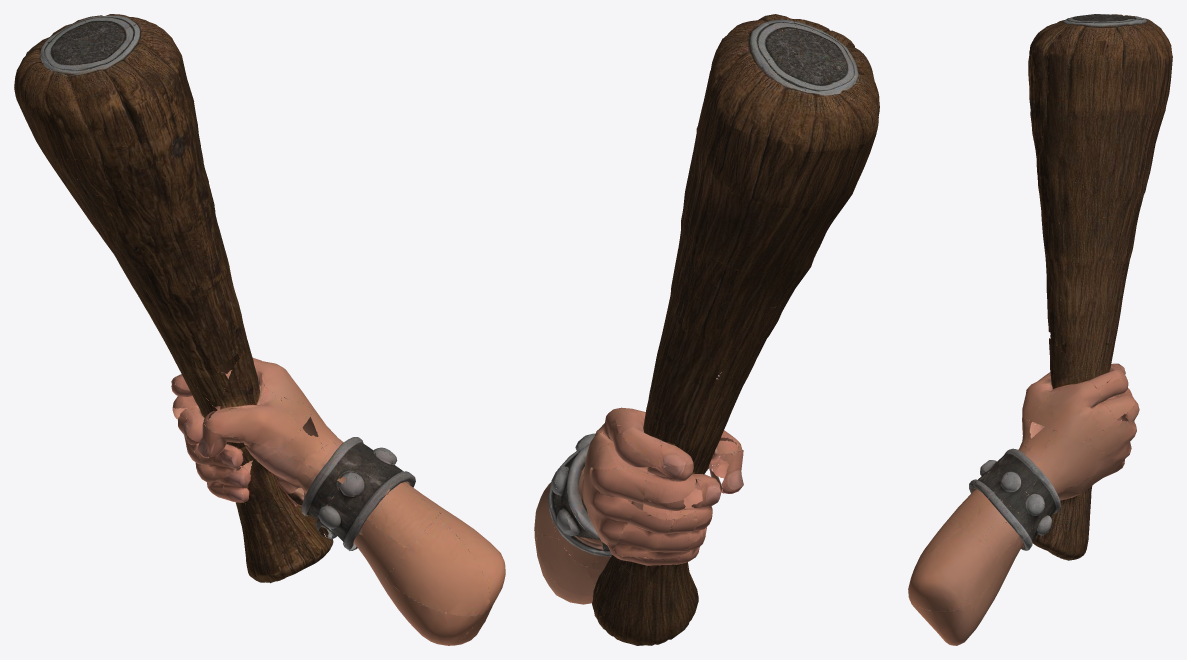
File: right-arm-club.glb
3 views of the same model, side by side, from view 1: azimuth 30°, elevation 25°; view 2: azimuth 150°, elevation 25°; view 3: azimuth 270°, elevation 25° (orthographic). The views are drawn at different scales.
Parts seen in each view (by area): view 1: asset; view 2: asset; view 3: asset.
Part boxes in pixels (box(x1,y1,x2,y2)): asset: box(14, 14, 505, 645); asset: box(534, 14, 879, 645); asset: box(908, 14, 1172, 645).
Size of the model in its own units: 1.23 by 1.9 by 0.8782.
Materials: 1 (1 with a texture image).
